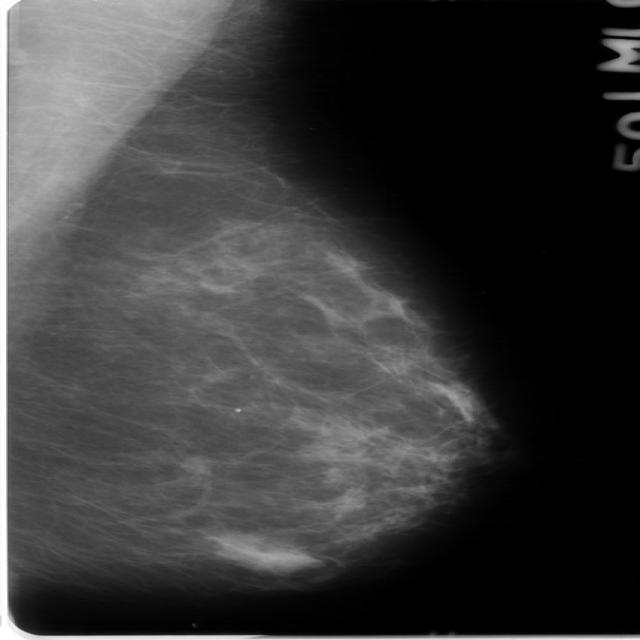tumour: (176, 454, 209, 474)
